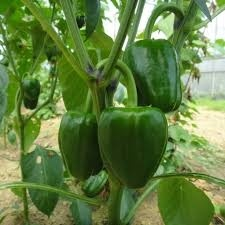fruit: (97, 105, 168, 189), (127, 38, 182, 113), (57, 111, 103, 178), (80, 169, 109, 195), (21, 78, 42, 110)
